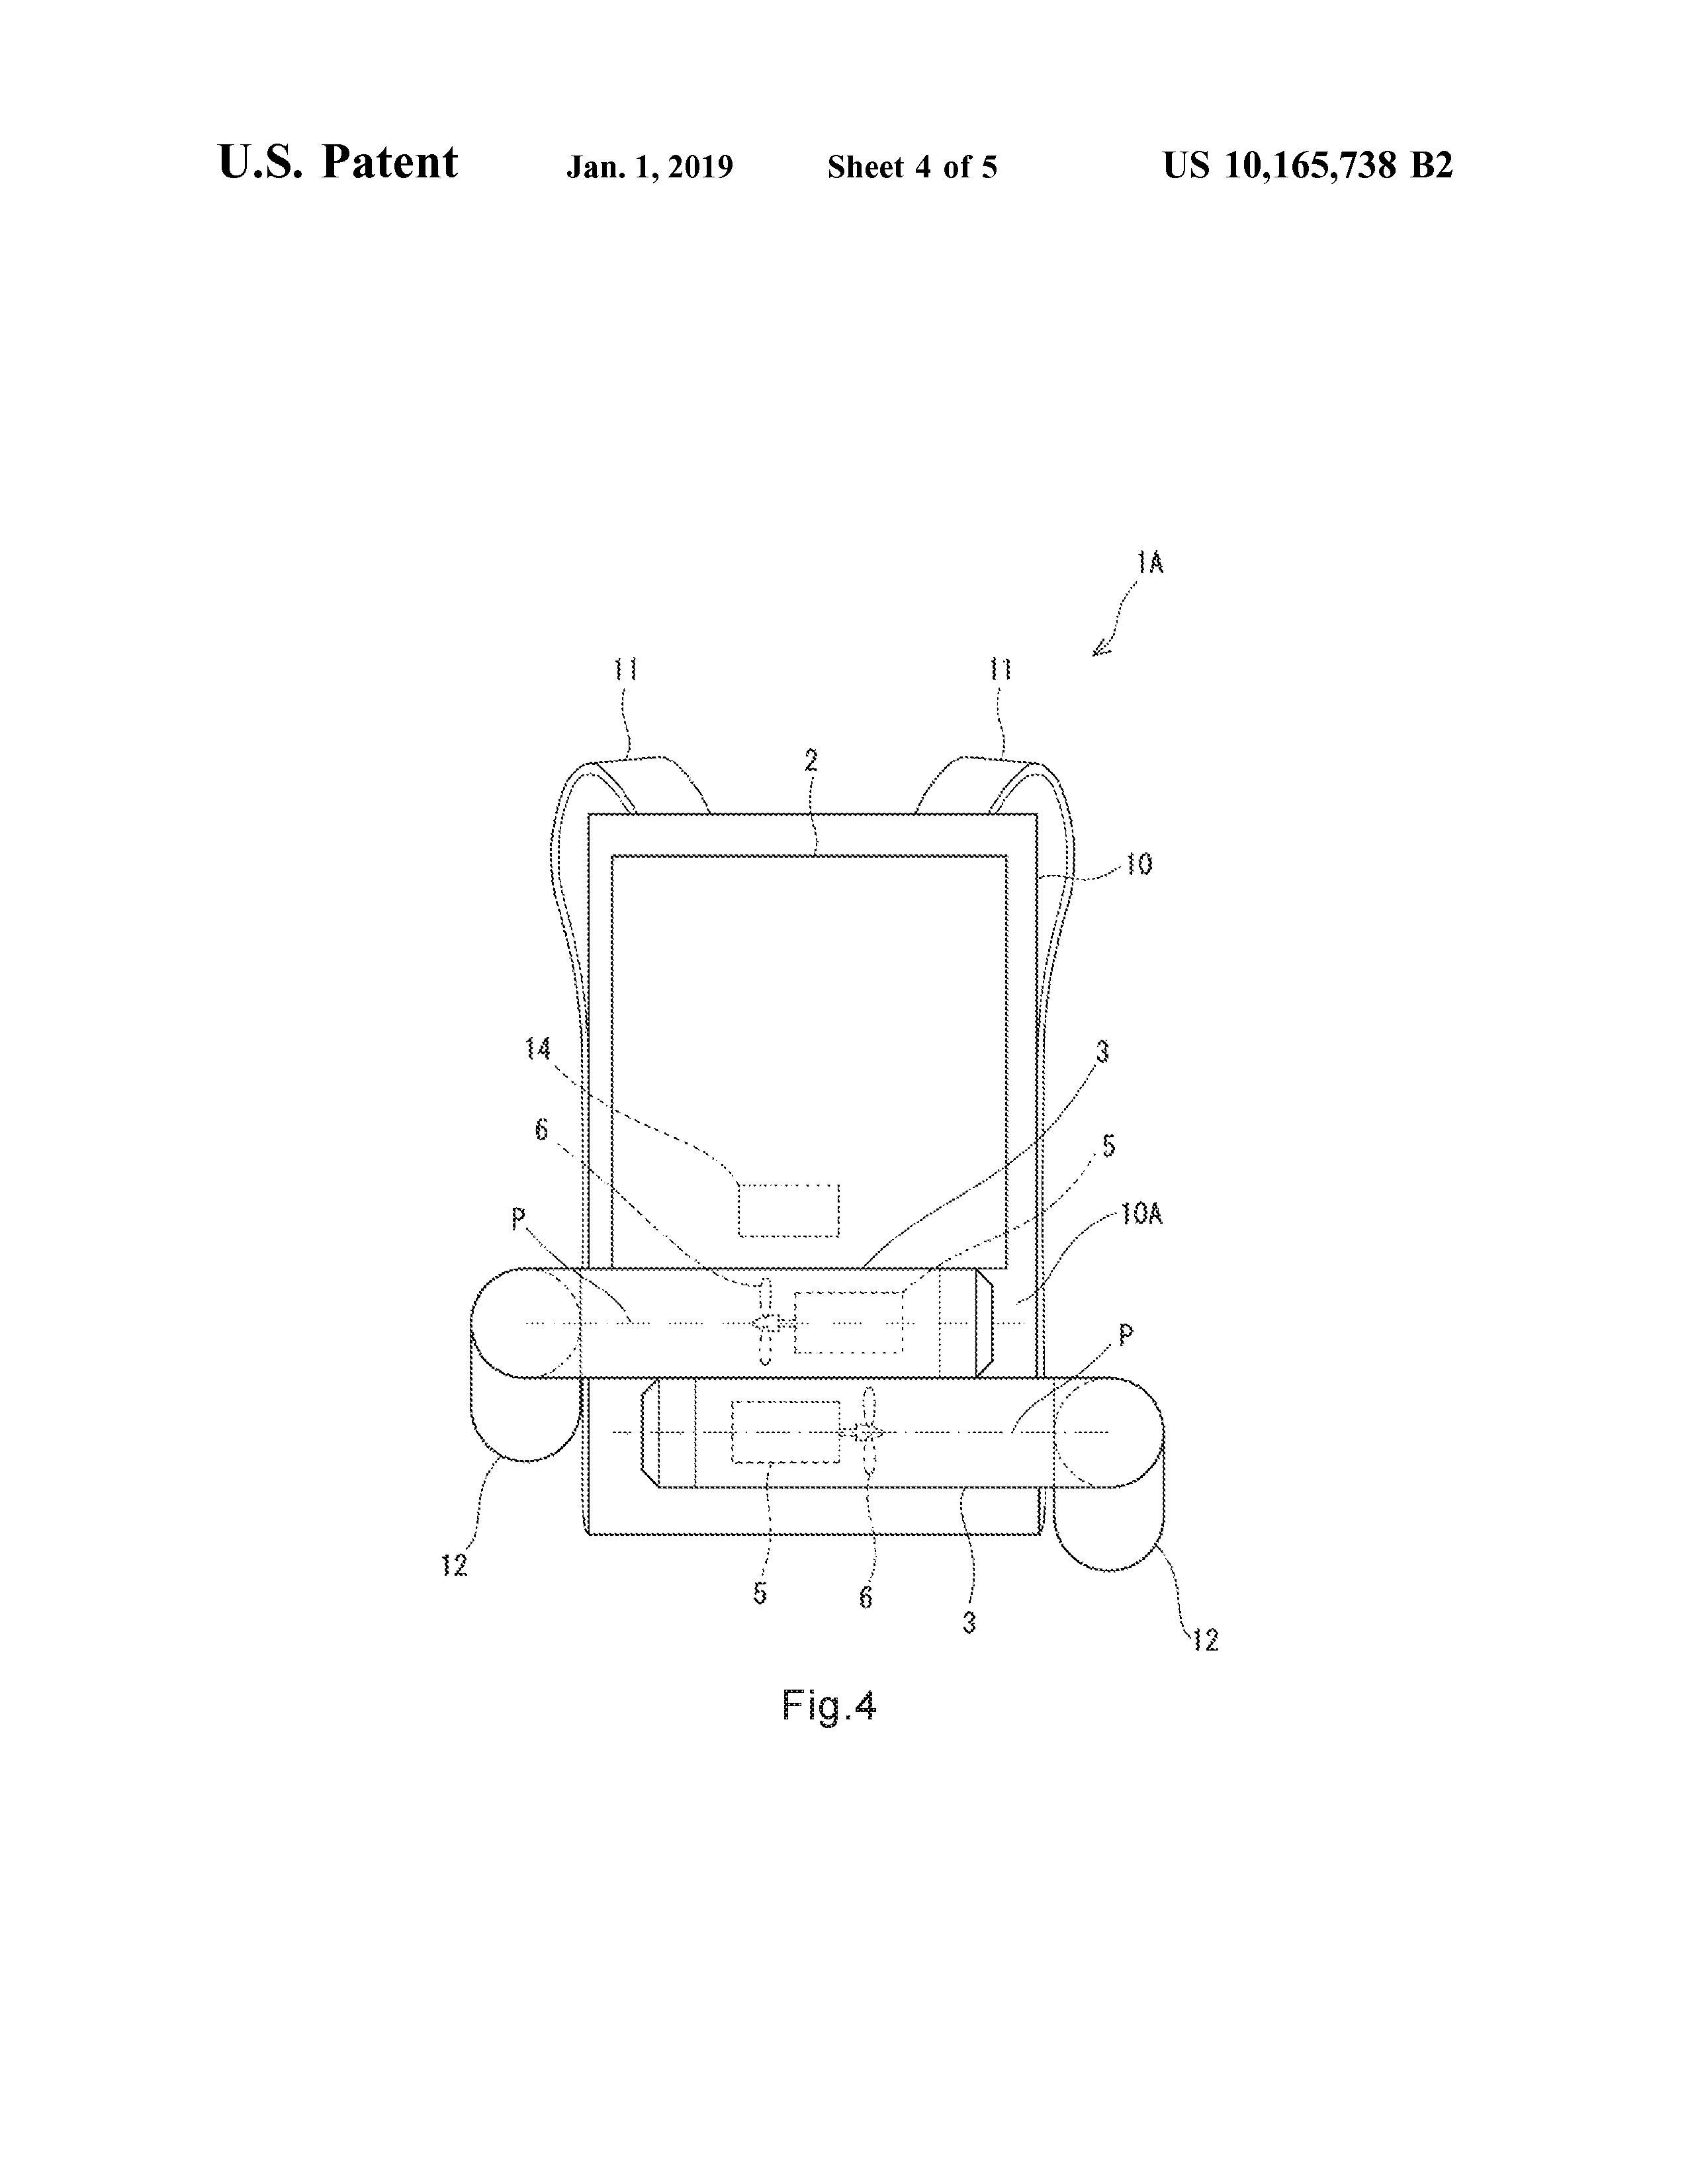patent image: (393, 532, 1257, 1756)
